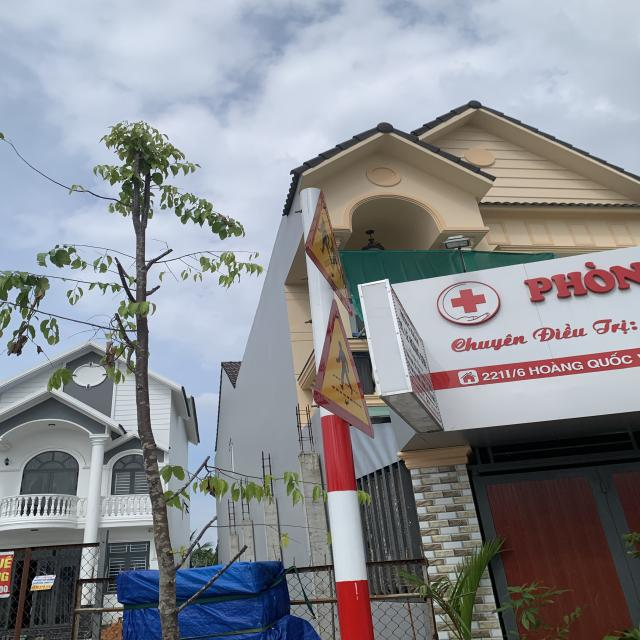Duong_Nguoi_Di_Bo_Sang_Ngang: (313, 299, 377, 439)
Vong_Xuyen: (302, 187, 357, 316)
